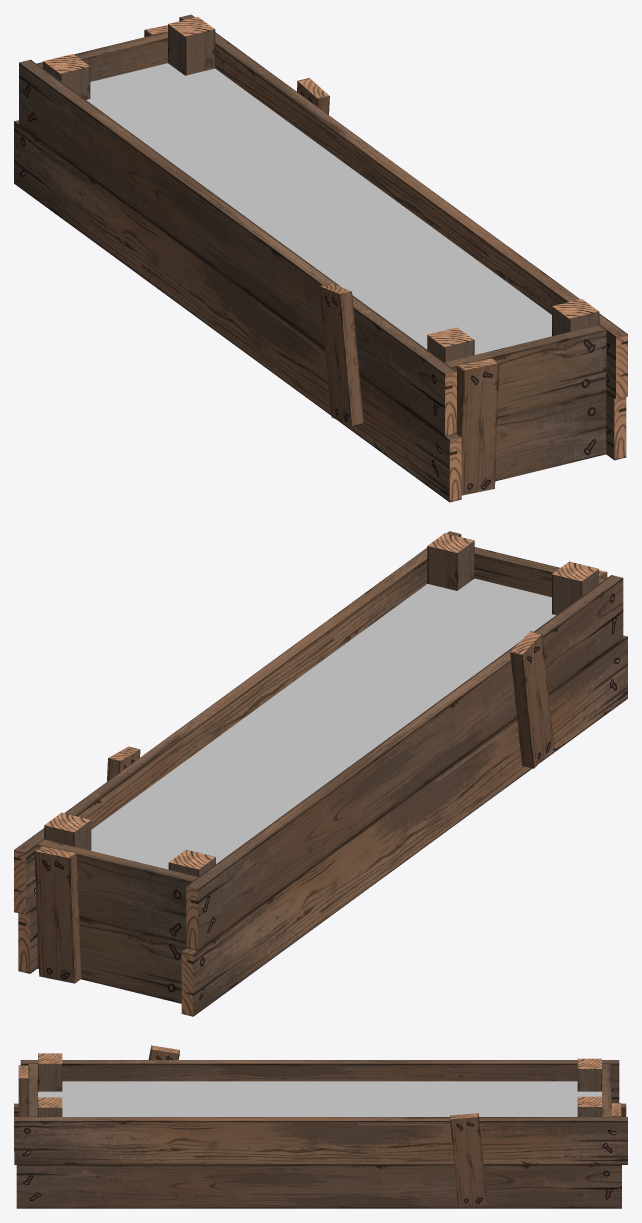
File: raisedBed12.fbx
3 renders of one model, top to bottom at view 1: azimuth 30°, elevation 25°; view 2: azimuth 150°, elevation 25°; view 3: azimuth 270°, elevation 25°, orthographic. The views are drawn at different scales.
Visible parts, largest first — view 1: raisedBed12; view 2: raisedBed12; view 3: raisedBed12.
Part boxes in pixels (x1,y1,x2,y2): raisedBed12: (14, 14, 627, 502); raisedBed12: (14, 531, 627, 1016); raisedBed12: (14, 1045, 627, 1208).
Size of the model in its own units: 85 by 56.37 by 318.
